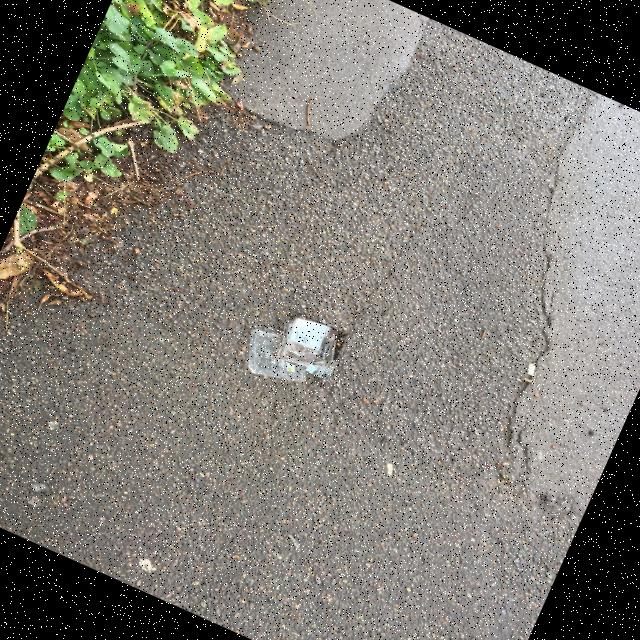Cigarette: (528, 365, 536, 376)
Disposable food container: (279, 319, 339, 375)
Plastic film: (248, 330, 307, 384)
